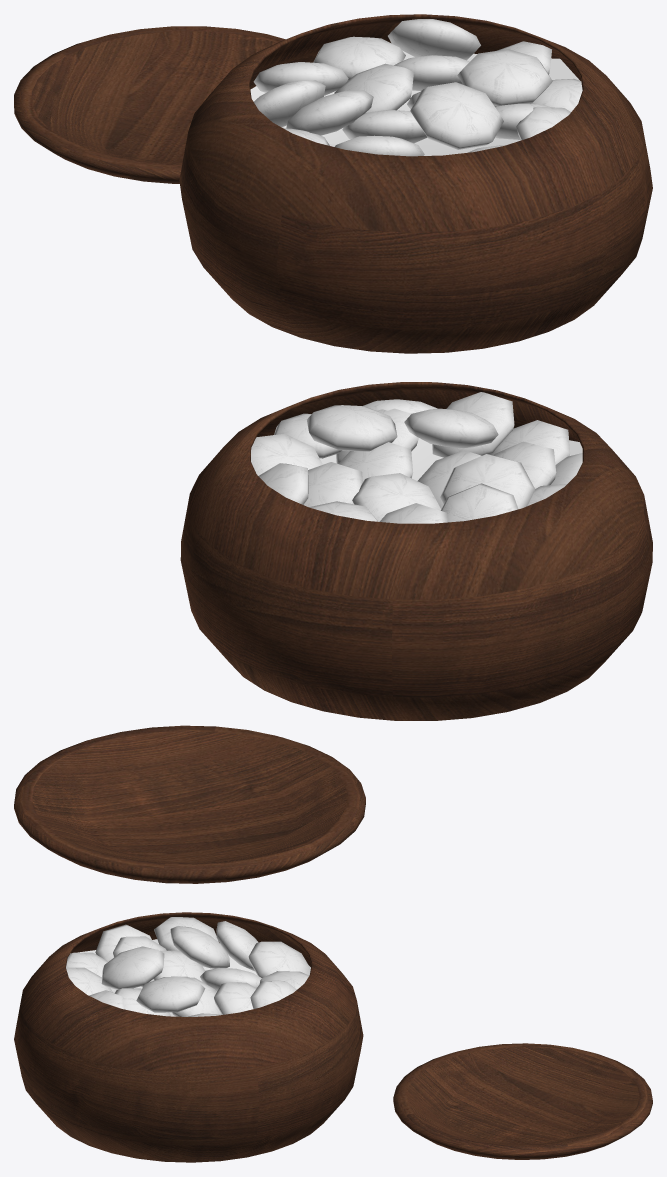
The model's file is bowl_wht_stones.gltf.
The picture shows the model from 3 angles, top to bottom: view 1: azimuth 30°, elevation 25°; view 2: azimuth 150°, elevation 25°; view 3: azimuth 270°, elevation 25°; orthographic projection. The views are drawn at different scales.
Visible parts, largest first — view 1: Cylinder.008; view 2: Cylinder.008; view 3: Cylinder.008.
Boxes of the visible parts, <box> form: Cylinder.008: <box>14,14,652,353</box>; Cylinder.008: <box>14,382,652,883</box>; Cylinder.008: <box>14,912,652,1162</box>.
Size of the model in its own units: 0.1503 by 0.0813 by 0.2748.
Materials: 2 (2 with a texture image).
